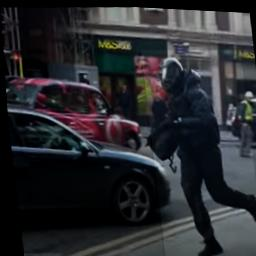nonspitting: (137, 42, 255, 255)
